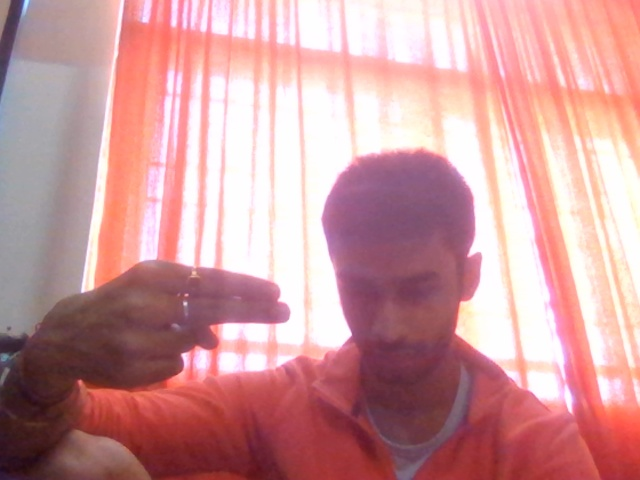H: (12, 242, 314, 442)
